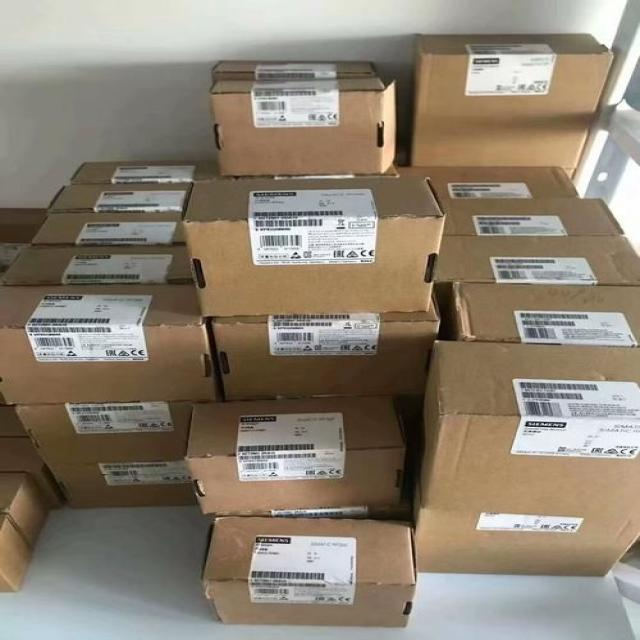box: (410, 338, 638, 574), (180, 174, 448, 315), (409, 32, 614, 185), (1, 283, 223, 405), (184, 395, 402, 516), (194, 514, 415, 629), (206, 295, 440, 400), (208, 76, 397, 173), (441, 282, 639, 343), (11, 400, 194, 465), (435, 231, 639, 284), (4, 241, 192, 283), (439, 196, 623, 235), (376, 160, 579, 195), (48, 461, 195, 509), (36, 209, 183, 246), (0, 436, 69, 508), (42, 182, 192, 213), (2, 472, 52, 548), (70, 160, 217, 184), (211, 59, 375, 80), (0, 507, 38, 592), (249, 506, 411, 523), (0, 206, 48, 246), (2, 241, 25, 277)
